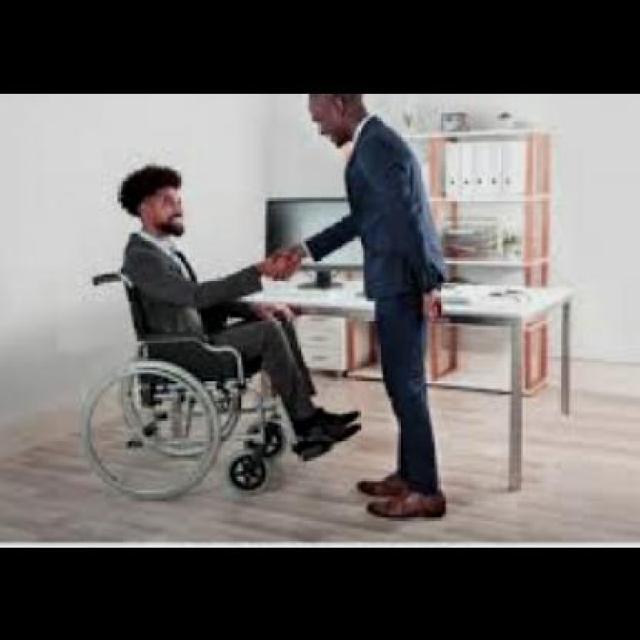wheelchairs: (80, 272, 338, 503)
